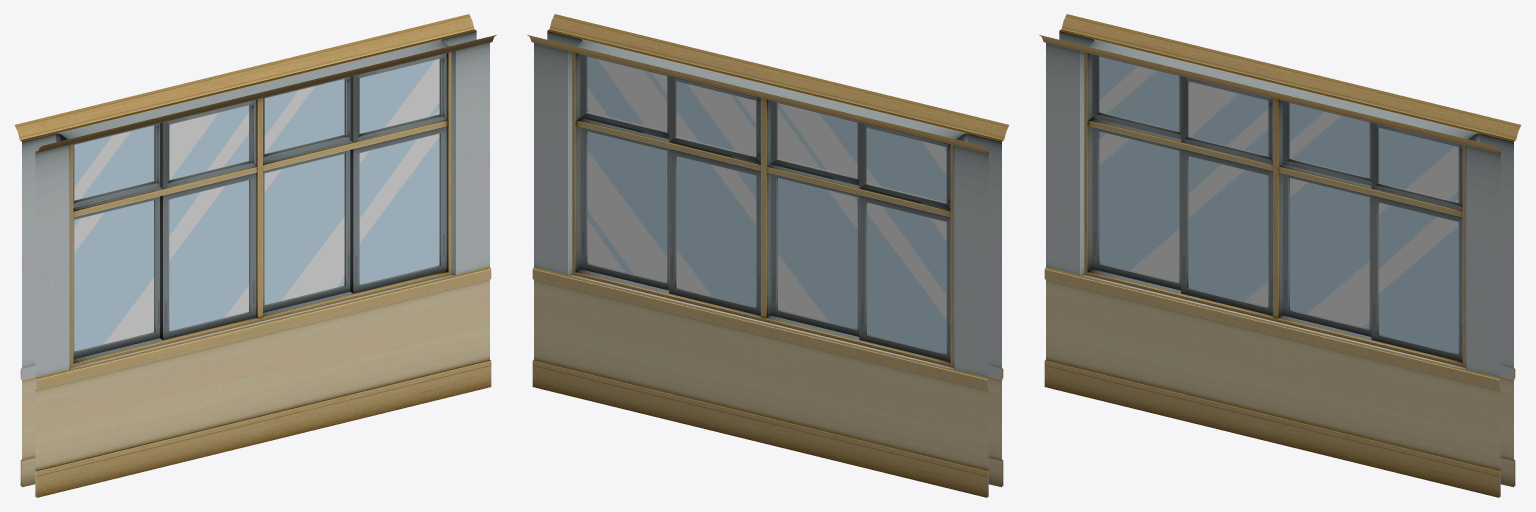
The model's file is InteriorWindow (merge).fbx.
3 renders of one model, left to right at view 1: azimuth 30°, elevation 25°; view 2: azimuth 150°, elevation 25°; view 3: azimuth 330°, elevation 25°, orthographic.
Visible parts, largest first — view 1: InteriorWindow (1), Interior_Wall_with_Window, Window 14, Window 13, Window 11, Window 12, Interior_Window, Window 10, Window 7, Window 9, Window 8, Frame5 (+7 smaller); view 2: Interior_Wall_with_Window, InteriorWindow (1), Window 11, Window 13, Window 12, Window 14, Interior_Window, Window 7, Window 9, Window 10, Window 8, Frame6 (+7 smaller); view 3: InteriorWindow (1), Interior_Wall_with_Window, Window 14, Window 12, Window 13, Window 11, Interior_Window, Window 10, Window 7, Window 8, Window 9, Frame5 (+7 smaller).
Part boxes in pixels (x1,y1,x2,y2): InteriorWindow (1): (35,35,496,497); Interior_Wall_with_Window: (14,14,476,487); Window 14: (74,200,154,351); Window 13: (169,180,249,331); Window 11: (359,133,439,284); Window 12: (264,154,344,304); Interior_Window: (70,52,451,367); Window 10: (74,125,154,200); Window 7: (359,59,439,133); Window 9: (169,105,249,179); Window 8: (264,79,344,153); Frame5: (350,126,446,293); Interior_Wall_with_Window: (527,35,988,497); InteriorWindow (1): (547,14,1009,487); Window 11: (587,131,667,282); Window 13: (777,178,857,328); Window 12: (676,156,756,307); Window 14: (866,202,946,353); Interior_Window: (572,52,953,367); Window 7: (587,56,667,131); Window 9: (777,103,857,177); Window 10: (866,128,946,202); Window 8: (676,81,756,155); Frame6: (669,148,760,315); InteriorWindow (1): (1039,35,1500,497); Interior_Wall_with_Window: (1059,14,1521,487); Window 14: (1099,131,1179,282); Window 12: (1289,178,1369,328); Window 13: (1188,156,1268,307); Window 11: (1378,202,1458,353); Interior_Window: (1084,52,1465,367); Window 10: (1099,56,1179,131); Window 7: (1378,128,1458,202); Window 8: (1289,103,1369,177); Window 9: (1188,81,1268,155); Frame5: (1371,195,1462,361).
Size of the model in its own units: 4.06 by 3.05 by 0.4382.
Materials: 4 (4 with a texture image).
